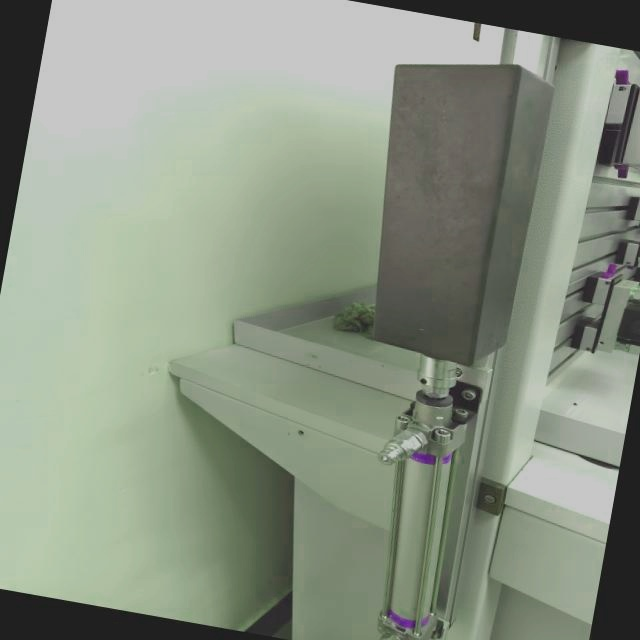load: (285, 21, 585, 640)
